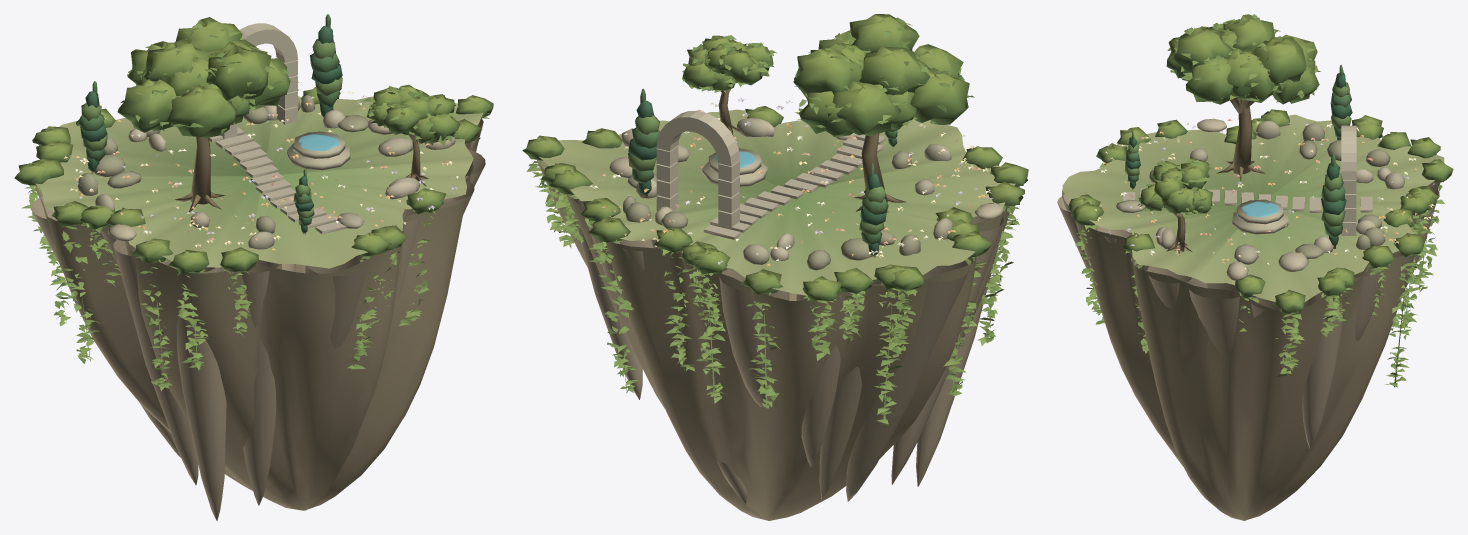
Rendered from island-distant.glb.
3 renders of one model, left to right at view 1: azimuth 30°, elevation 25°; view 2: azimuth 150°, elevation 25°; view 3: azimuth 270°, elevation 25°, orthographic. The views are drawn at different scales.
Visible parts, largest first — view 1: island_fixed_Warm limestone_distant, island_fixed_Garden foliage_distant, island_fixed_Flower petals_distant, island_fixed_Oiled cedar_distant, island_fixed_Cabin glass_distant; view 2: island_fixed_Warm limestone_distant, island_fixed_Garden foliage_distant, island_fixed_Flower petals_distant, island_fixed_Oiled cedar_distant; view 3: island_fixed_Warm limestone_distant, island_fixed_Garden foliage_distant, island_fixed_Oiled cedar_distant, island_fixed_Flower petals_distant, island_fixed_Cabin glass_distant.
Part boxes in pixels (x1,y1,x2,y2): island_fixed_Warm limestone_distant: (31,23,485,520); island_fixed_Garden foliage_distant: (14,14,493,390); island_fixed_Flower petals_distant: (64,82,461,250); island_fixed_Oiled cedar_distant: (91,134,428,234); island_fixed_Cabin glass_distant: (298,134,339,151); island_fixed_Warm limestone_distant: (537,110,1009,520); island_fixed_Garden foliage_distant: (522,14,1028,426); island_fixed_Flower petals_distant: (589,97,992,267); island_fixed_Oiled cedar_distant: (642,89,906,257); island_fixed_Warm limestone_distant: (1057,118,1440,520); island_fixed_Garden foliage_distant: (1062,14,1453,387); island_fixed_Oiled cedar_distant: (1132,97,1335,255); island_fixed_Flower petals_distant: (1081,119,1434,269); island_fixed_Cabin glass_distant: (1242,201,1278,217).
Size of the model in its own units: 12.09 by 12.9 by 10.28.
